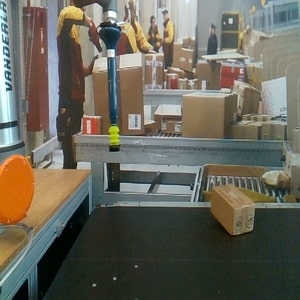box: (210, 183, 257, 237)
